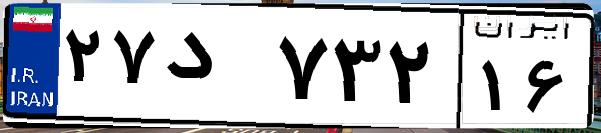1: (475, 38, 525, 113)
2: (385, 28, 445, 110), (57, 26, 110, 100)
3: (330, 28, 385, 110)
6: (525, 38, 570, 115)
7: (270, 28, 330, 110), (110, 28, 158, 98)
د: (158, 20, 270, 120)
